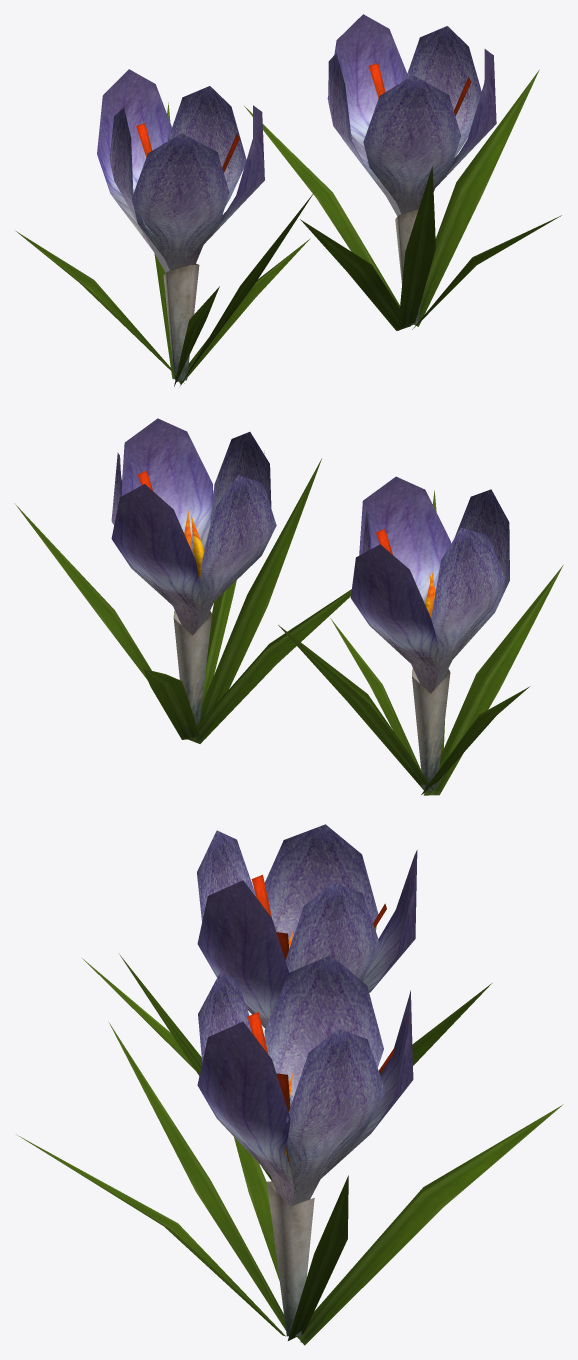
File: Saffron_m.FBX
3 renders of one model, top to bottom at view 1: azimuth 30°, elevation 25°; view 2: azimuth 150°, elevation 25°; view 3: azimuth 270°, elevation 25°, orthographic. The views are drawn at different scales.
Parts seen in each view (by area): view 1: saffron2, saffron003; view 2: saffron2, saffron003; view 3: saffron2, saffron003.
Boxes of the visible parts, x1,y1,x2,y2 form: saffron2: [244, 14, 561, 330]; saffron003: [16, 69, 314, 386]; saffron2: [14, 418, 351, 743]; saffron003: [278, 476, 563, 795]; saffron2: [16, 955, 563, 1345]; saffron003: [82, 824, 491, 1181].
Size of the model in its own units: 51.47 by 27.15 by 38.14.
